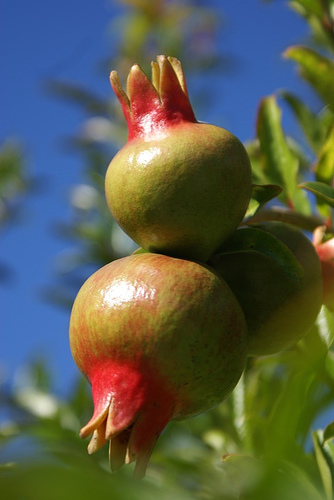pomogranate: (68, 251, 250, 481), (102, 51, 252, 258)
